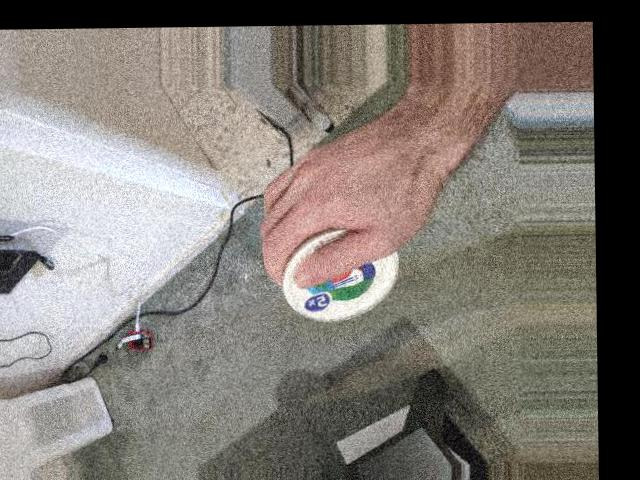cotage: (279, 217, 399, 323)
